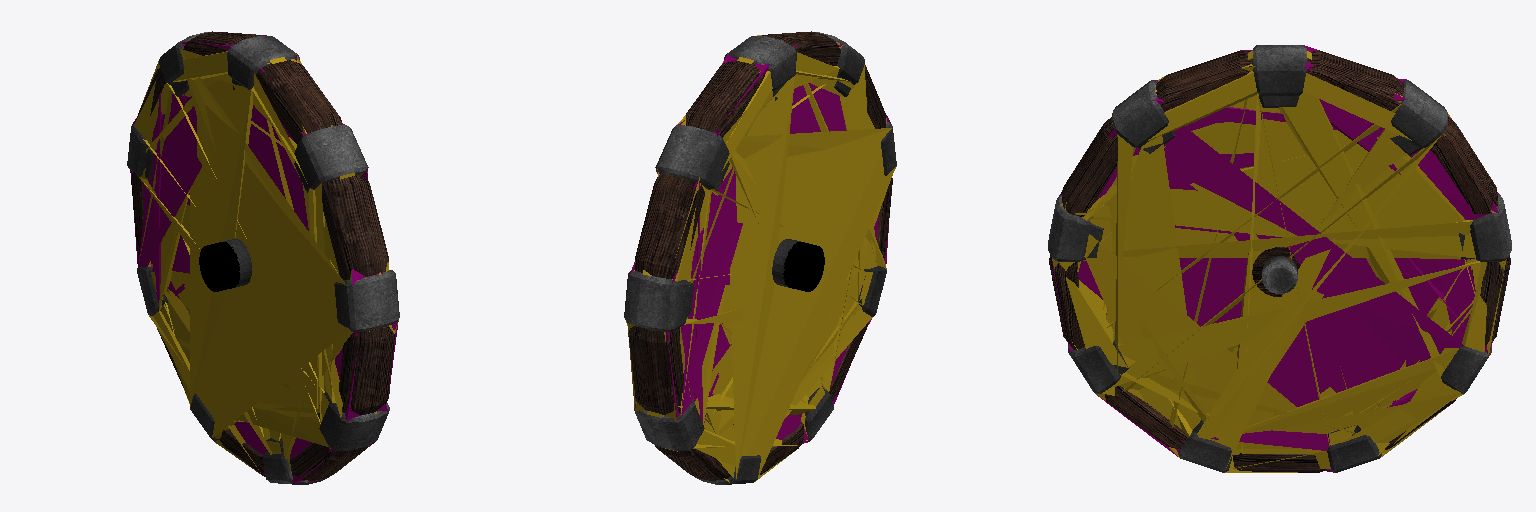
3 renders of one model, left to right at view 1: azimuth 30°, elevation 25°; view 2: azimuth 150°, elevation 25°; view 3: azimuth 270°, elevation 25°, orthographic.
Visible parts, largest first — view 1: Cannon001, Wheel_001, Wheel_002, Cannon001_lafette; view 2: Cannon001, Wheel_001, Wheel_002, Cannon001_lafette; view 3: Cannon001, Cannon001_lafette, Wheel_001, Wheel_002.
Part boxes in pixels (x1,y1,x2,y2): Cannon001: (134, 44, 398, 473); Wheel_001: (130, 32, 398, 484); Wheel_002: (127, 31, 399, 484); Cannon001_lafette: (130, 35, 398, 483); Cannon001: (626, 35, 896, 482); Wheel_001: (624, 31, 896, 484); Wheel_002: (625, 32, 892, 484); Cannon001_lafette: (629, 43, 890, 472); Cannon001: (1052, 51, 1506, 472); Cannon001_lafette: (1052, 45, 1499, 472); Wheel_001: (1048, 45, 1509, 472); Wheel_002: (1050, 45, 1511, 472).
Bounding box in the file's own units: 29.6 × 131 × 132.
Materials: 3 (1 with a texture image).